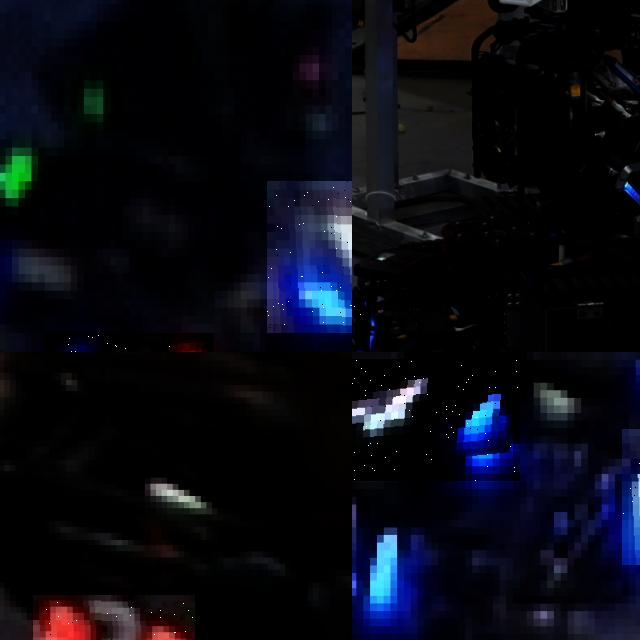B4: (352, 359, 520, 481), (266, 181, 352, 332), (352, 489, 411, 626)
Bs: (352, 297, 370, 352)
R2: (32, 594, 195, 640)
